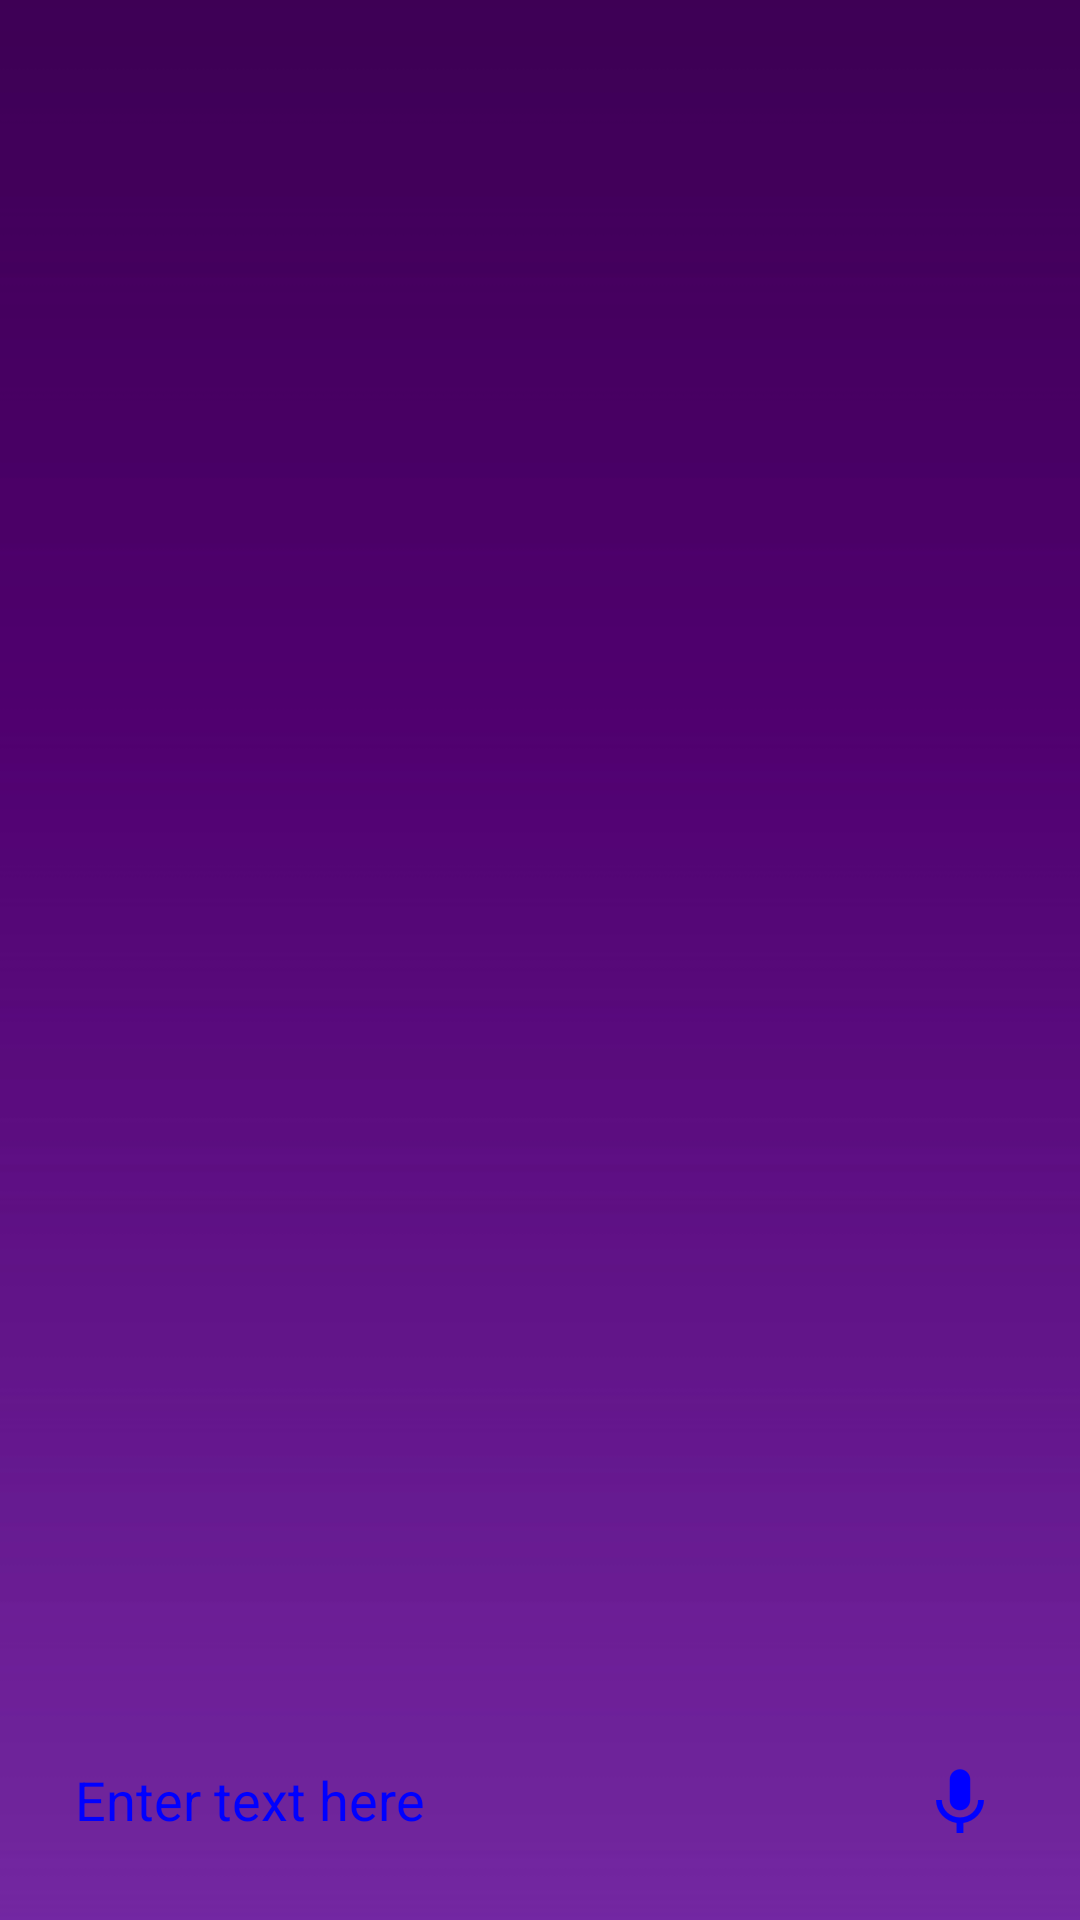

Named icons in this screenshot (1080px x 1920px) and their centers, point (x, y):
mic: point (960, 1801)
